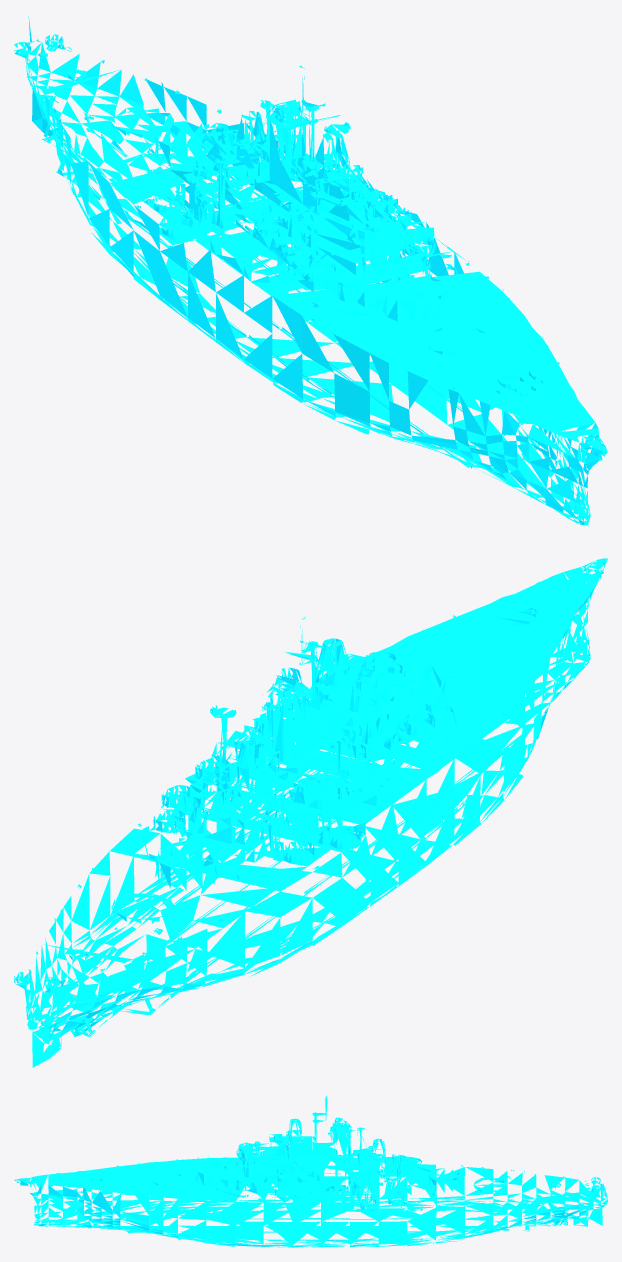
Rendered from Minnesota.glb.
3 renders of one model, top to bottom at view 1: azimuth 30°, elevation 25°; view 2: azimuth 150°, elevation 25°; view 3: azimuth 270°, elevation 25°, orthographic. The views are drawn at different scales.
Bounding box in the file's own units: 2.7 × 3.33 × 13.89.
